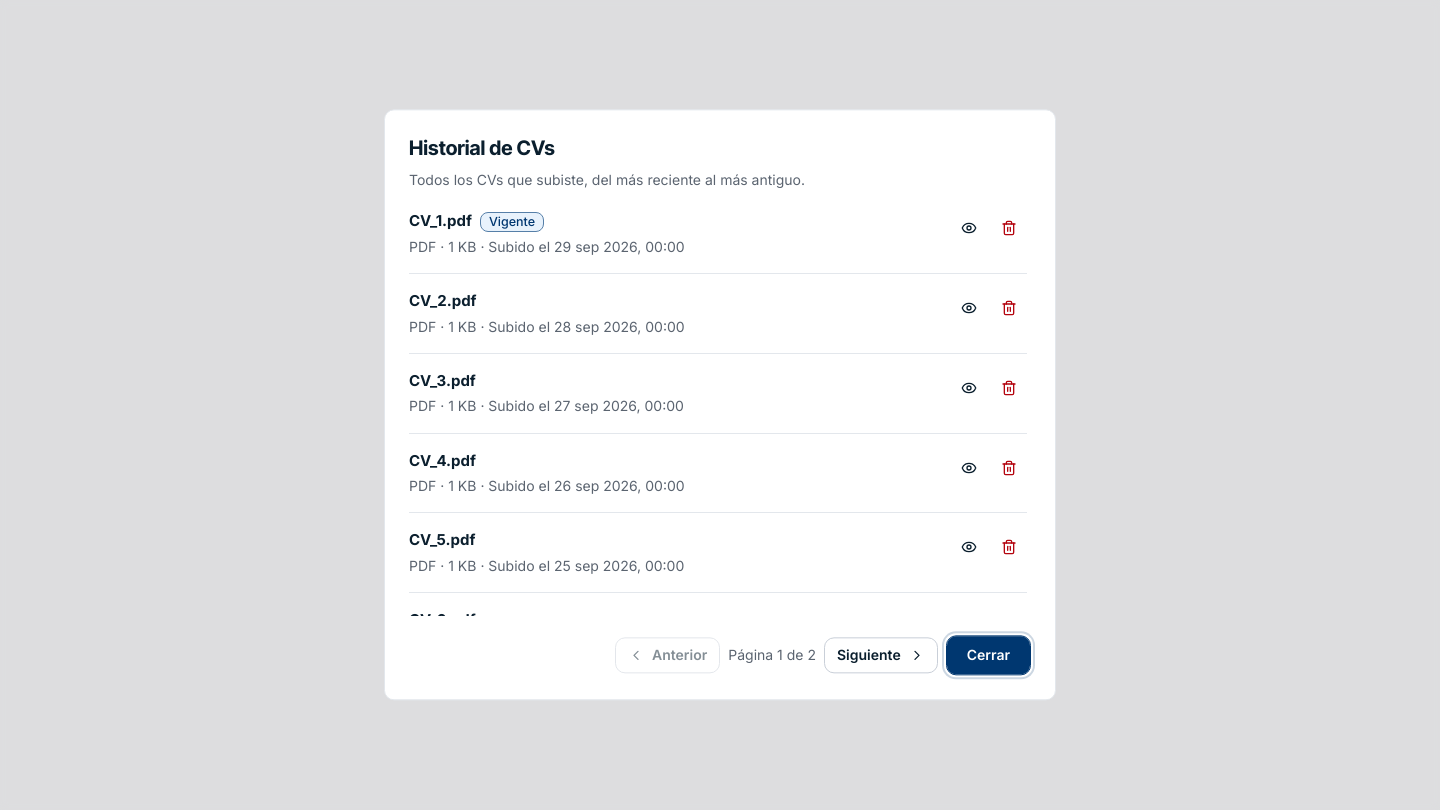
Test: CvHistoryDialog › shows inside the history why a cv could not be deleted
The image size is (1440, 810).
What coordinates should you click on to do the following:
click the button named "Eliminar CV_3.pdf"
I would click on:
 (1009, 388)
Its box is [991, 370, 1027, 406].
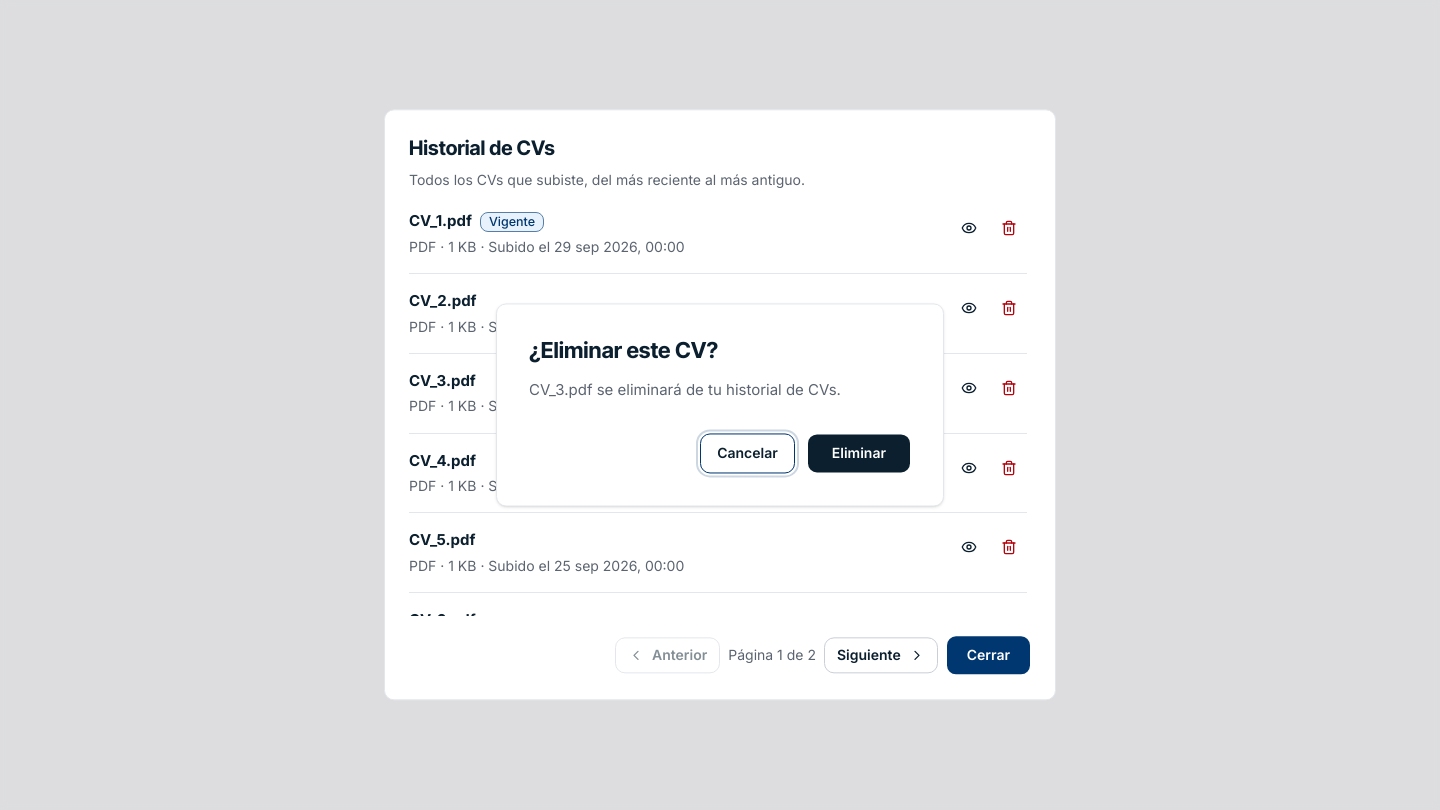
What coordinates should you click on to do the following:
click the button "Eliminar"
I would click on:
 (859, 454)
Its box is [807, 434, 911, 474].
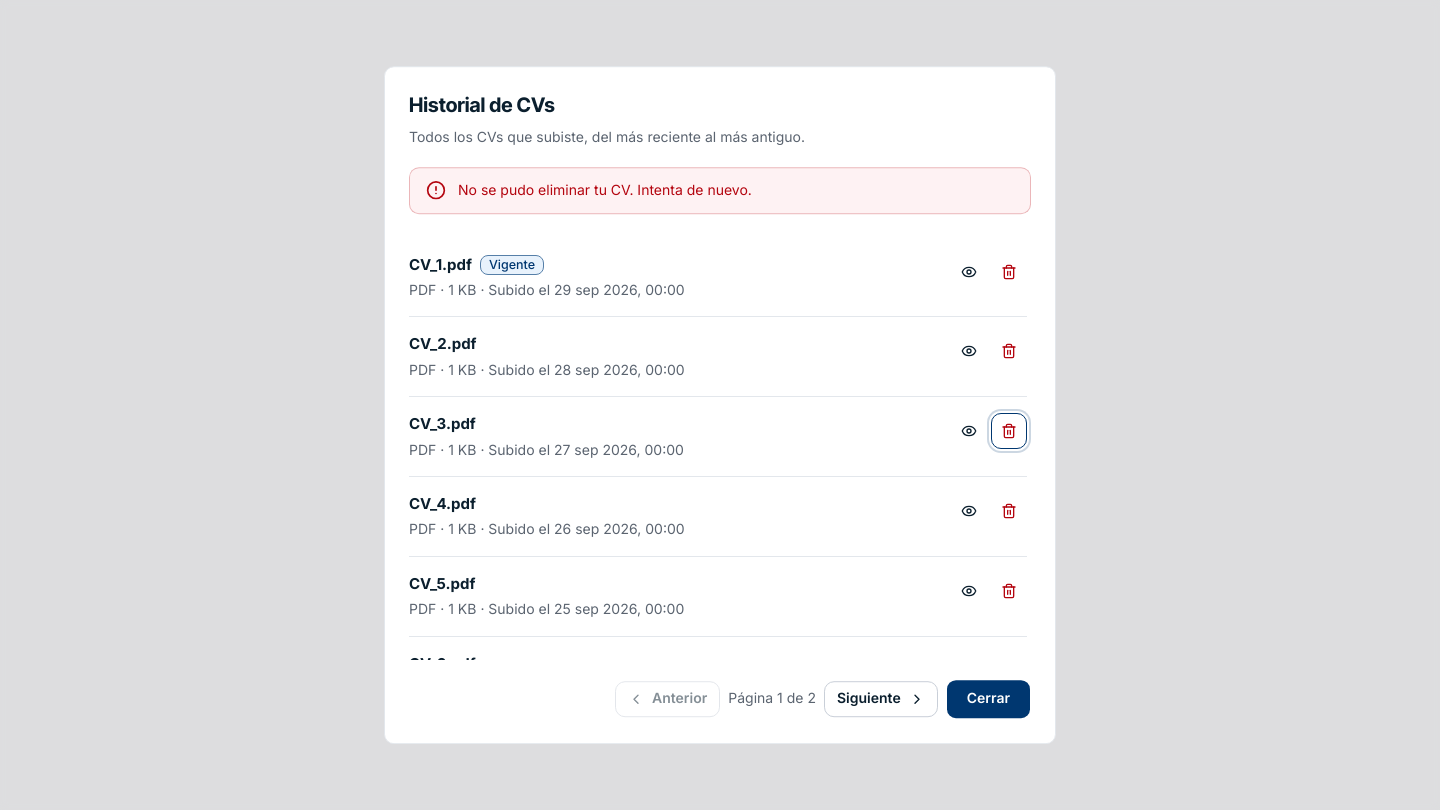
Expected: the text "CV_3.pdf" is shown, [409, 413, 476, 436]
Expected: the message reads "No se pudo eliminar tu CV. Intenta de nuevo.", [458, 182, 752, 198]
